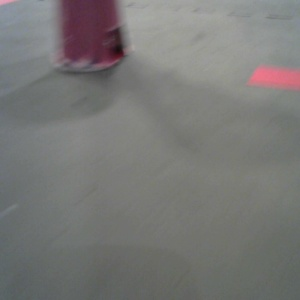Right: (220, 1, 293, 70)
